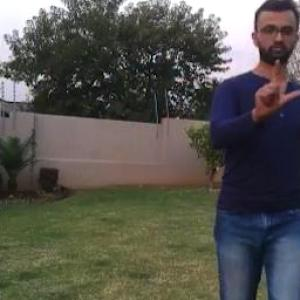land_hand: (247, 51, 299, 118)
